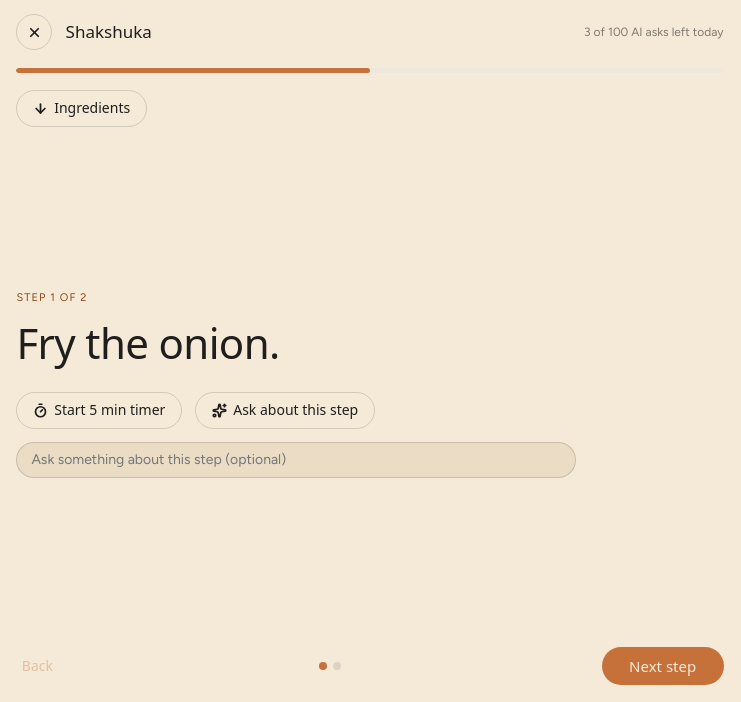
Test: CookScreen › COOK-9 drops the answer when the step changes
Click the button "Ask about this step" at (285, 410), box 195,392 -> 375,429
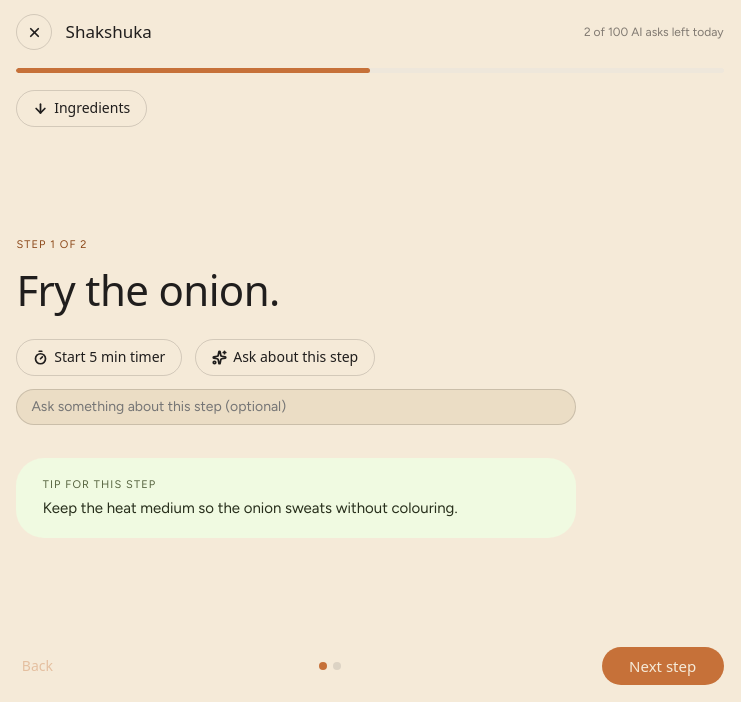
Now the text "Keep the heat medium so the onion sweats without colouring." is shown, box 43,499 -> 458,517
Click the button "Next step" at (663, 666), box 602,647 -> 724,685
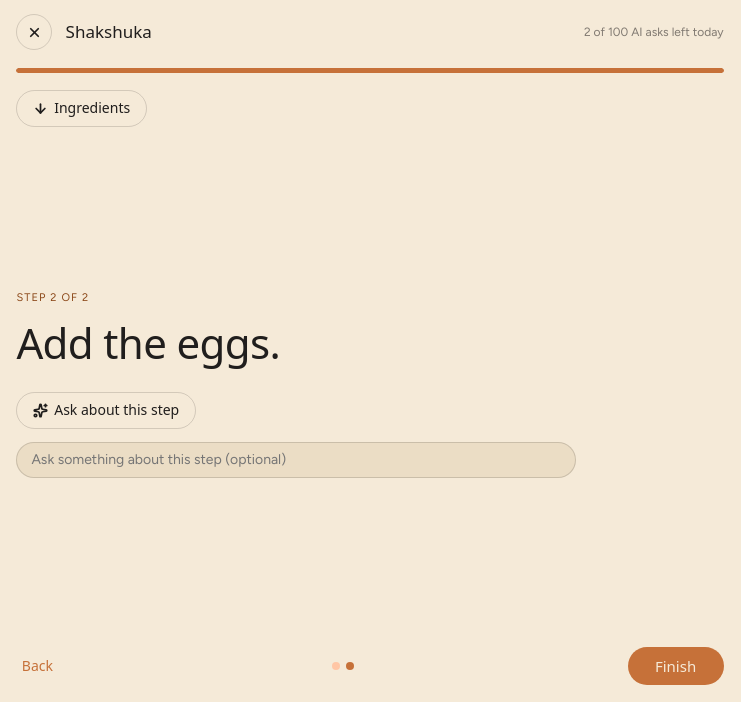
Now the text "Keep the heat medium so the onion sweats without colouring." is gone
